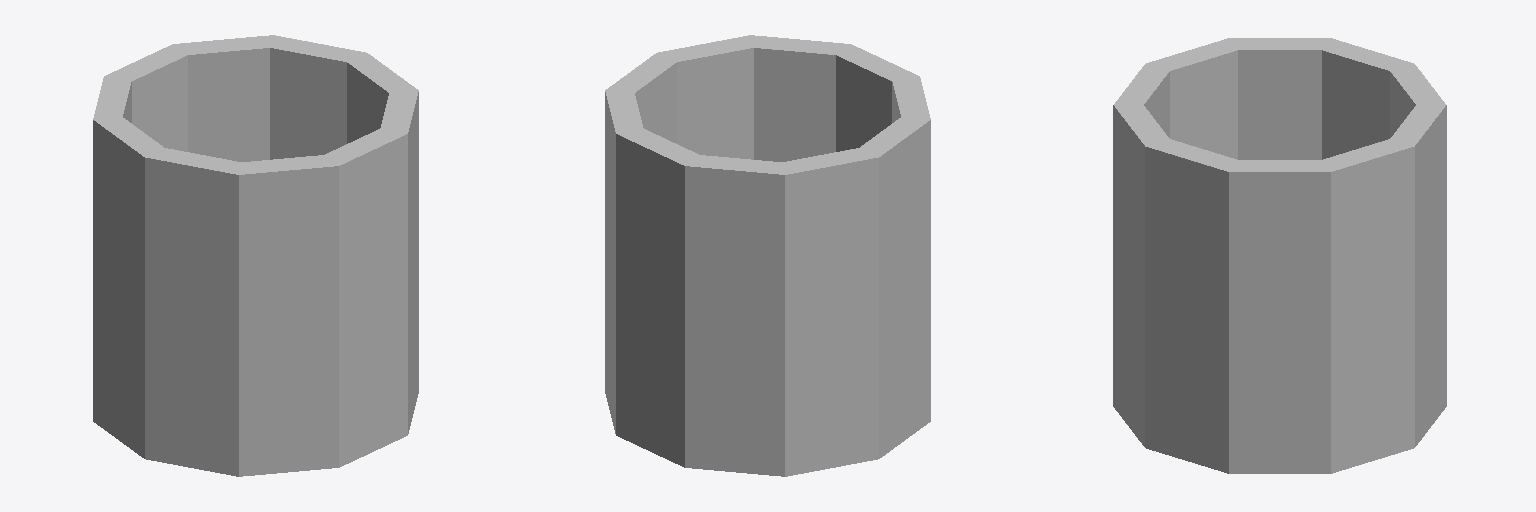
Rendered from bucket.obj.
3 renders of one model, left to right at view 1: azimuth 30°, elevation 25°; view 2: azimuth 150°, elevation 25°; view 3: azimuth 270°, elevation 25°, orthographic.
Visible parts, largest first — view 1: Cylinder; view 2: Cylinder; view 3: Cylinder.
Part boxes in pixels (x1,y1,x2,y2): Cylinder: (93, 35, 418, 476); Cylinder: (605, 35, 930, 476); Cylinder: (1113, 38, 1446, 473).
Size of the model in its own units: 1.9 by 2 by 2.